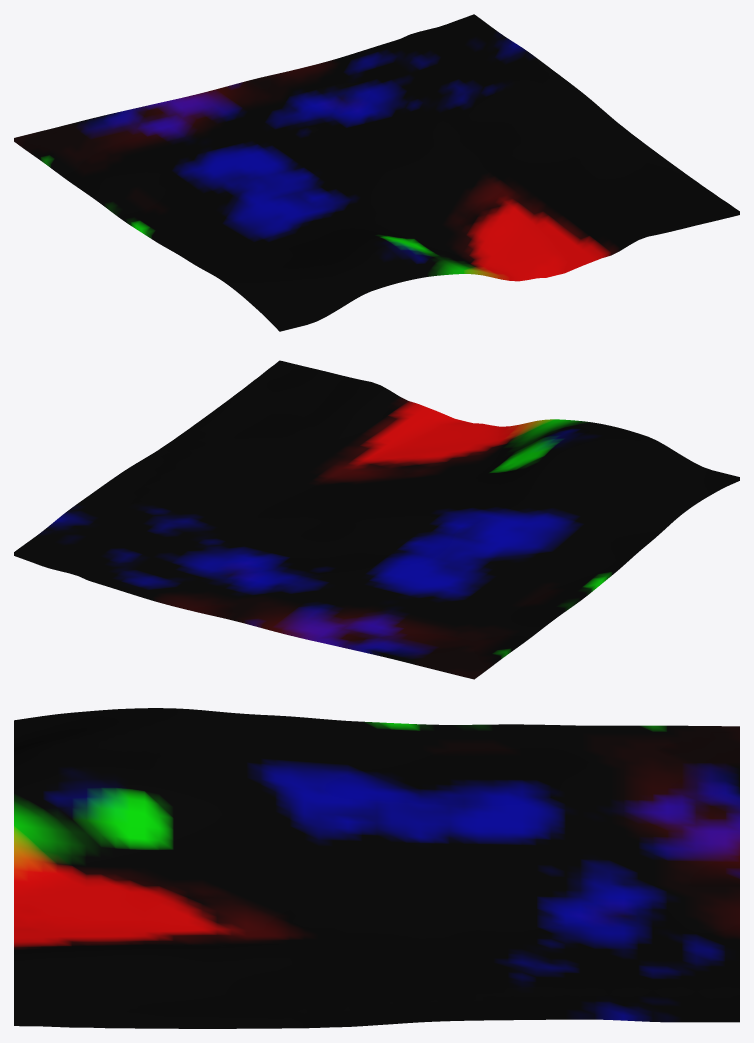
File: coast_10_8.glb
3 renders of one model, top to bottom at view 1: azimuth 30°, elevation 25°; view 2: azimuth 150°, elevation 25°; view 3: azimuth 270°, elevation 25°, orthographic. The views are drawn at different scales.
Parts seen in each view (by area): view 1: terrain; view 2: terrain; view 3: terrain.
Boxes of the visible parts, left/top/right/bottom form: terrain: left=14, top=14, right=739, bottom=331; terrain: left=14, top=360, right=739, bottom=679; terrain: left=14, top=708, right=739, bottom=1028.
Bounding box in the file's own units: 200 × 16.64 × 200.
